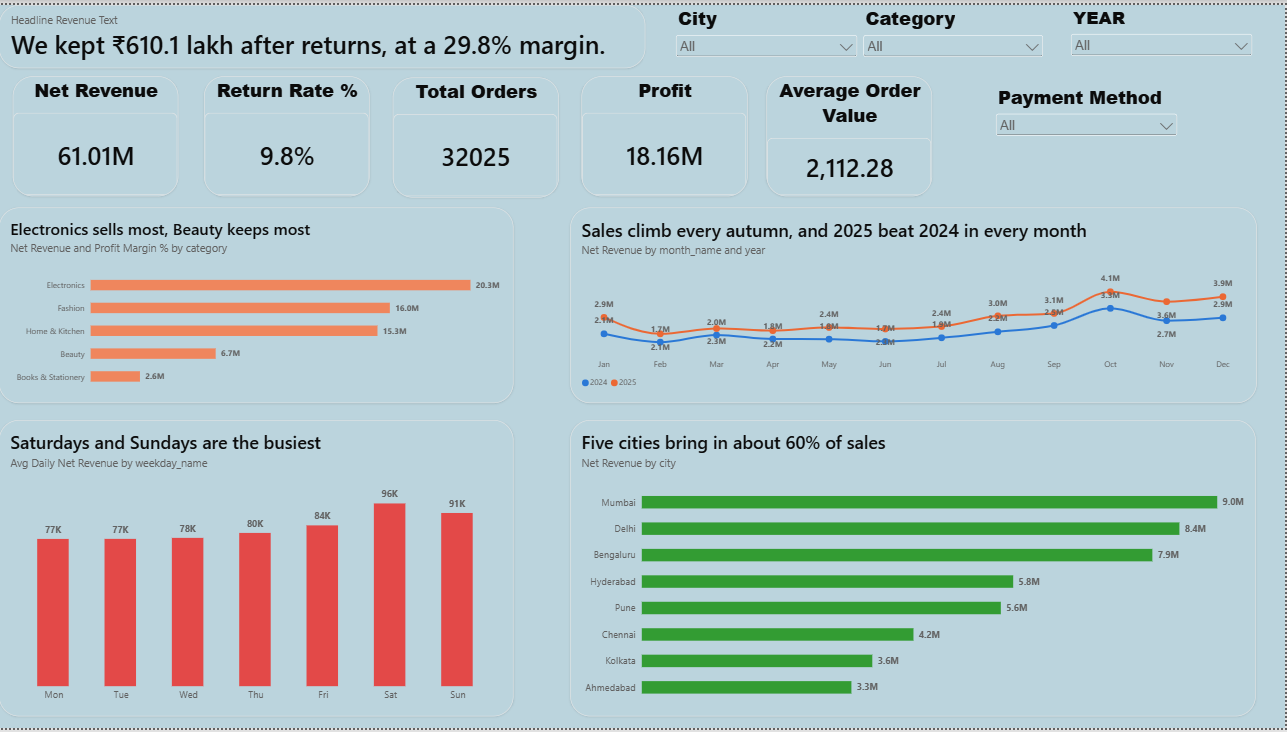

The page's visual inventory and layout, read from the dashboard file:
{"tool":"powerbi","page":{"name":" How is the business doing?","canvas":[1920,1080],"ordinal":0},"visuals":[{"type":"cardVisual","title":"Net Revenue","fields":{"Data":["_Measures.Net Revenue"]},"box":[20.6,109.1,247,179],"z":0},{"type":"cardVisual","title":"Return Rate %","fields":{"Data":["_Measures.Return Rate %"]},"box":[317,109.1,247,179],"z":1000},{"type":"cardVisual","title":"Total Orders","fields":{"Data":["_Measures.Orders"]},"box":[605.1,109.1,247.9,179],"z":2000},{"type":"cardVisual","title":"Profit","fields":{"Data":["_Measures.Profit"]},"box":[883,109.1,247.9,179.2],"z":3000},{"type":"cardVisual","fields":{"Data":["_Measures.Headline Revenue Text"]},"box":[0,0,964.5,94.1],"z":4000},{"type":"slicer","title":"YEAR","fields":{"Values":["dim_date.year"]},"box":[1595.2,0,279.9,94.7],"z":5000},{"type":"slicer","title":"Category","fields":{"Values":["dim_products.category"]},"box":[1286.5,0,277.9,86.4],"z":6000},{"type":"slicer","fields":{"Values":["dim_customers.city"]},"box":[1006.5,0,279.9,86.4],"z":7000},{"type":"slicer","fields":{"Values":["fact_orders.payment_method"]},"box":[1484.1,117.3,280.5,81.4],"z":8000},{"type":"cardVisual","title":"Average Order Value","fields":{"Data":["_Measures.Average Order Value"]},"box":[1163,107,247,179.2],"z":9000},{"type":"lineChart","title":"Sales climb every autumn, and 2025 beat 2024 in every month","fields":{"Category":["dim_date.month_name"],"Series":["dim_date.year"],"Y":["_Measures.Net Revenue"]},"box":[852.1,302.6,1025,292.3],"z":10000},{"type":"clusteredBarChart","title":"Electronics sells most, Beauty keeps most","fields":{"Category":["dim_products.category"],"Y":["_Measures.Net Revenue"]},"box":[0,302.6,767.8,292.3],"z":11000},{"type":"clusteredColumnChart","title":"Saturdays and Sundays are the busiest","fields":{"Category":["dim_date.weekday_name"],"Y":["_Measures.Avg Daily Net Revenue"]},"box":[0,619.6,767.8,442.5],"z":12000},{"type":"clusteredBarChart","title":"Five cities bring in about 60% of sales","fields":{"Category":["dim_customers.city"],"Y":["_Measures.Net Revenue"]},"box":[852.1,619.6,1023,442.5],"z":13000}]}

Visuals, with their boxes in screenshot pixels (x1, y1, x2, y2), scaled from the page's 1920x1080 canvas onto the 1287x732 screenshot:
"Net Revenue" cardVisual: [14,74,179,195]
"Return Rate %" cardVisual: [212,74,378,195]
"Total Orders" cardVisual: [406,74,572,195]
"Profit" cardVisual: [592,74,758,195]
cardVisual - _Measures.Headline Revenue Text: [0,0,647,64]
"YEAR" slicer: [1069,0,1257,64]
"Category" slicer: [862,0,1049,59]
slicer - dim_customers.city: [675,0,862,59]
slicer - fact_orders.payment_method: [995,80,1183,135]
"Average Order Value" cardVisual: [780,73,945,194]
"Sales climb every autumn, and 2025 beat 2024 in every month" lineChart: [571,205,1258,403]
"Electronics sells most, Beauty keeps most" clusteredBarChart: [0,205,515,403]
"Saturdays and Sundays are the busiest" clusteredColumnChart: [0,420,515,720]
"Five cities bring in about 60% of sales" clusteredBarChart: [571,420,1257,720]
